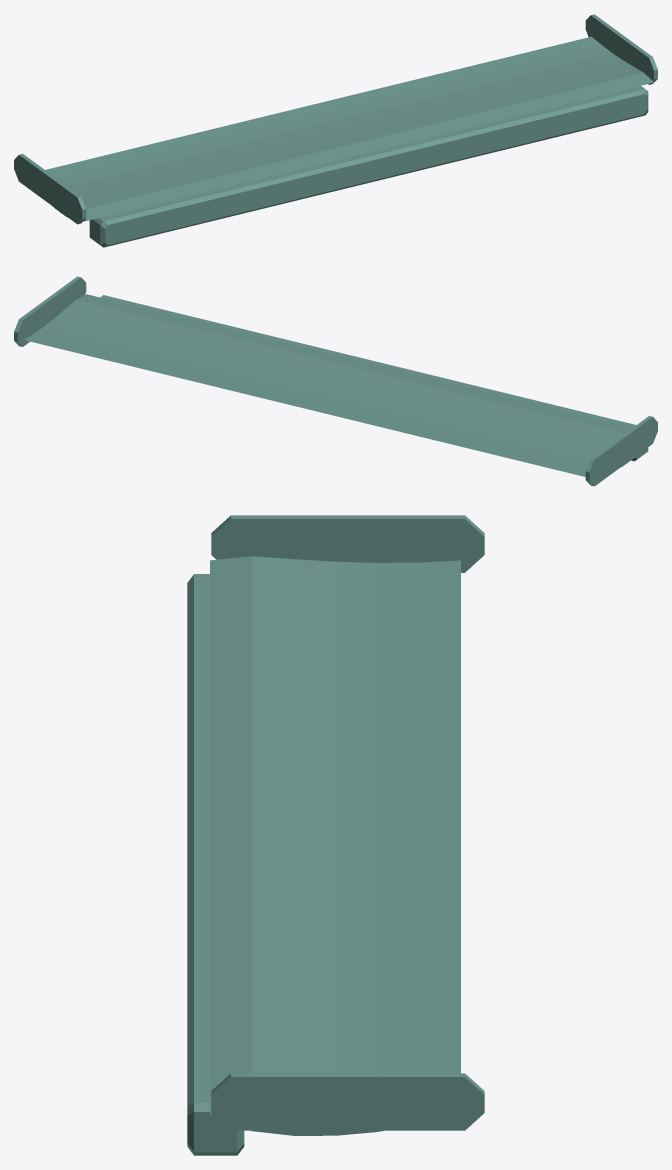
The model's file is vortex_r_roof_wing.glb.
The picture shows the model from 3 angles, top to bottom: view 1: azimuth 30°, elevation 25°; view 2: azimuth 150°, elevation 25°; view 3: azimuth 270°, elevation 25°; orthographic projection. The views are drawn at different scales.
Parts seen in each view (by area): view 1: wing_element, model; view 2: wing_element, model; view 3: wing_element, model.
Boxes of the visible parts, left/top/right/bottom form: wing_element: left=14, top=14, right=657, bottom=224; model: left=89, top=86, right=648, bottom=247; wing_element: left=14, top=276, right=657, bottom=486; model: left=100, top=295, right=648, bottom=461; wing_element: left=210, top=515, right=484, bottom=1135; model: left=187, top=574, right=244, bottom=1155.
Bounding box in the file's own units: 1.17 × 0.092 × 0.261.
